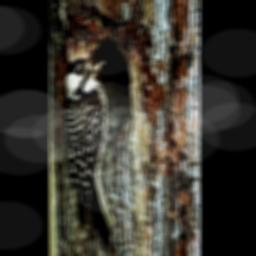Woodpecker: (63, 55, 117, 256)
